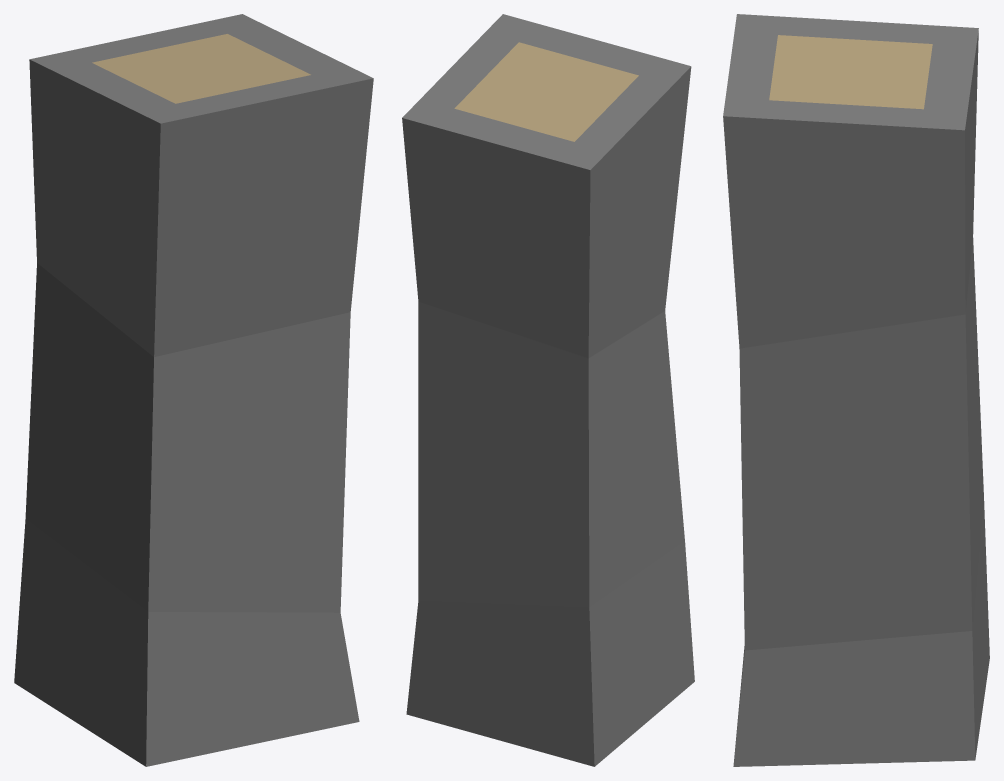
Rendered from Pillar_Square_2.fbx.
3 renders of one model, left to right at view 1: azimuth 30°, elevation 25°; view 2: azimuth 150°, elevation 25°; view 3: azimuth 270°, elevation 25°, orthographic. The views are drawn at different scales.
Visible parts, largest first — view 1: Box002; view 2: Box002; view 3: Box002.
Boxes of the visible parts, box(x1,y1,x2,y2) form: Box002: box(14, 14, 373, 766); Box002: box(402, 14, 694, 766); Box002: box(723, 14, 989, 766).
Bounding box in the file's own units: 16.38 × 44.22 × 16.32.
